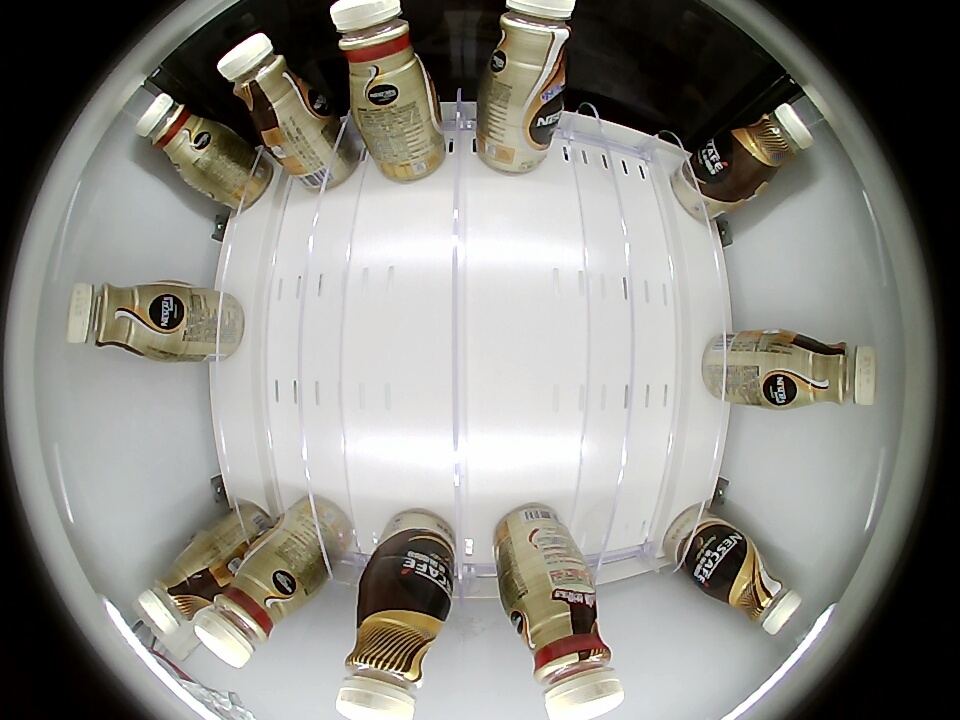kafei: (496, 589, 622, 720), (338, 587, 455, 719), (331, 0, 445, 103), (193, 556, 296, 669), (216, 31, 321, 139), (476, 0, 573, 106), (714, 540, 803, 636), (66, 279, 172, 358), (722, 103, 814, 191), (778, 334, 878, 408), (134, 92, 219, 173), (137, 550, 214, 635)
